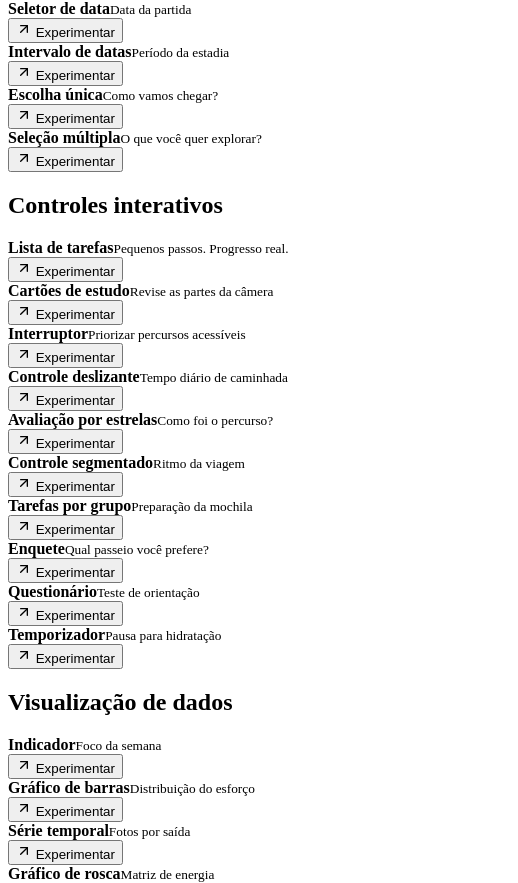
Test: allows preview interaction while addition is locked and only inserts on explicit request
Later steps or results of the test are not shown.
(page scrolled)
Click the button with aria-label "Experimentar Avaliação por estrelas": (66, 442) [8,429,123,454]
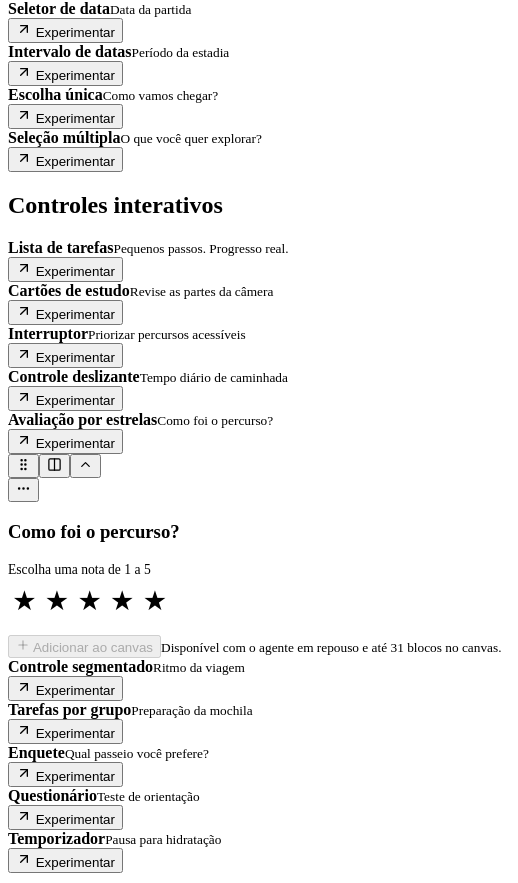
Click the radio button named "4 de 5": (122, 601) [110,586,134,616]
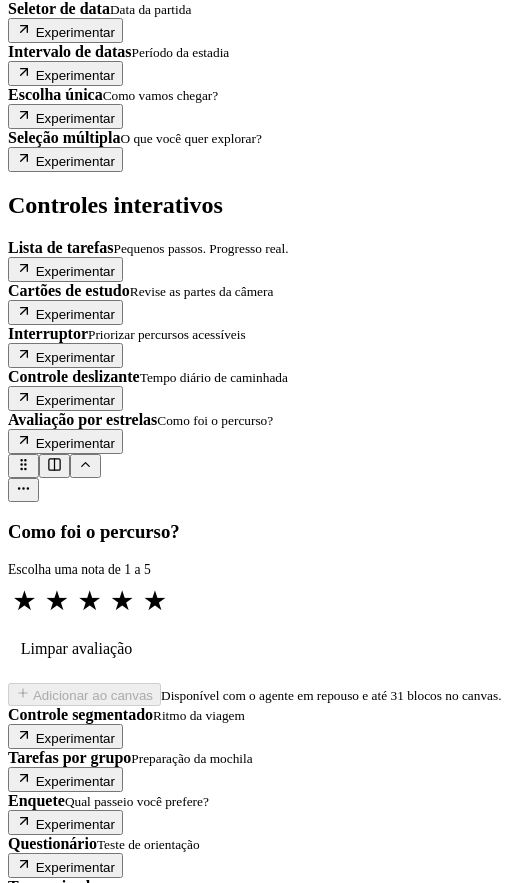
Check: the button "Adicionar ao canvas" is disabled, box [8,683,161,706]
